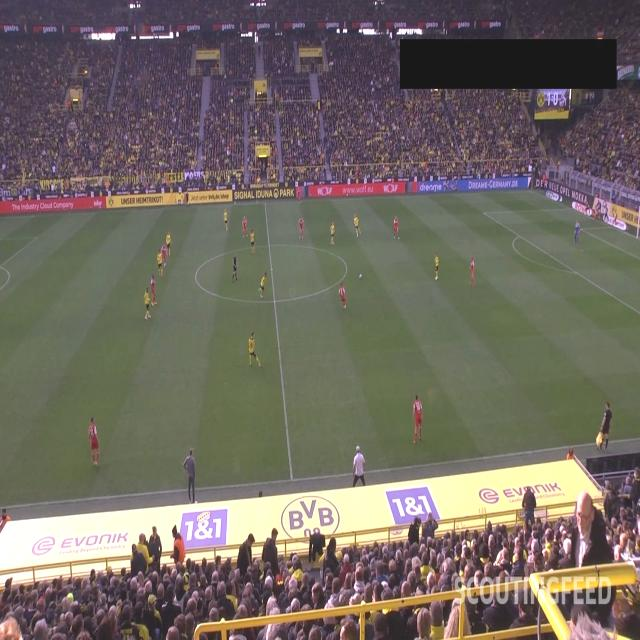ball: (357, 273, 364, 283)
f_player: (86, 412, 105, 478), (244, 325, 264, 379), (410, 392, 424, 449), (141, 284, 153, 330), (296, 212, 308, 252), (336, 278, 348, 316), (256, 264, 268, 302), (150, 272, 158, 316), (432, 250, 441, 288), (164, 226, 174, 260), (220, 207, 230, 235), (154, 248, 163, 278), (352, 210, 361, 240), (329, 221, 337, 253), (248, 228, 257, 256), (392, 210, 398, 243), (242, 217, 250, 241), (298, 186, 304, 210)
umpire: (468, 253, 478, 295), (230, 250, 240, 289)
